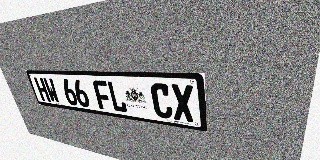6: (71, 79, 91, 108), (60, 79, 79, 106)
C: (150, 83, 173, 119)
F: (92, 80, 113, 111)
H: (34, 77, 51, 102)
L: (106, 81, 128, 113)
W: (43, 78, 61, 103)
X: (170, 84, 195, 123)
